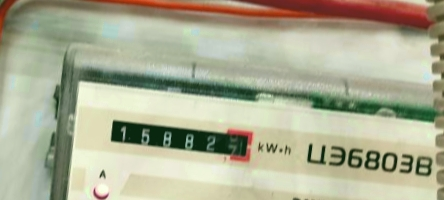1: (117, 122, 129, 141)
2: (204, 133, 217, 152)
5: (138, 126, 152, 145)
7: (226, 143, 238, 155)
8: (159, 128, 173, 147), (182, 130, 195, 150)
screen: (100, 107, 259, 170)
